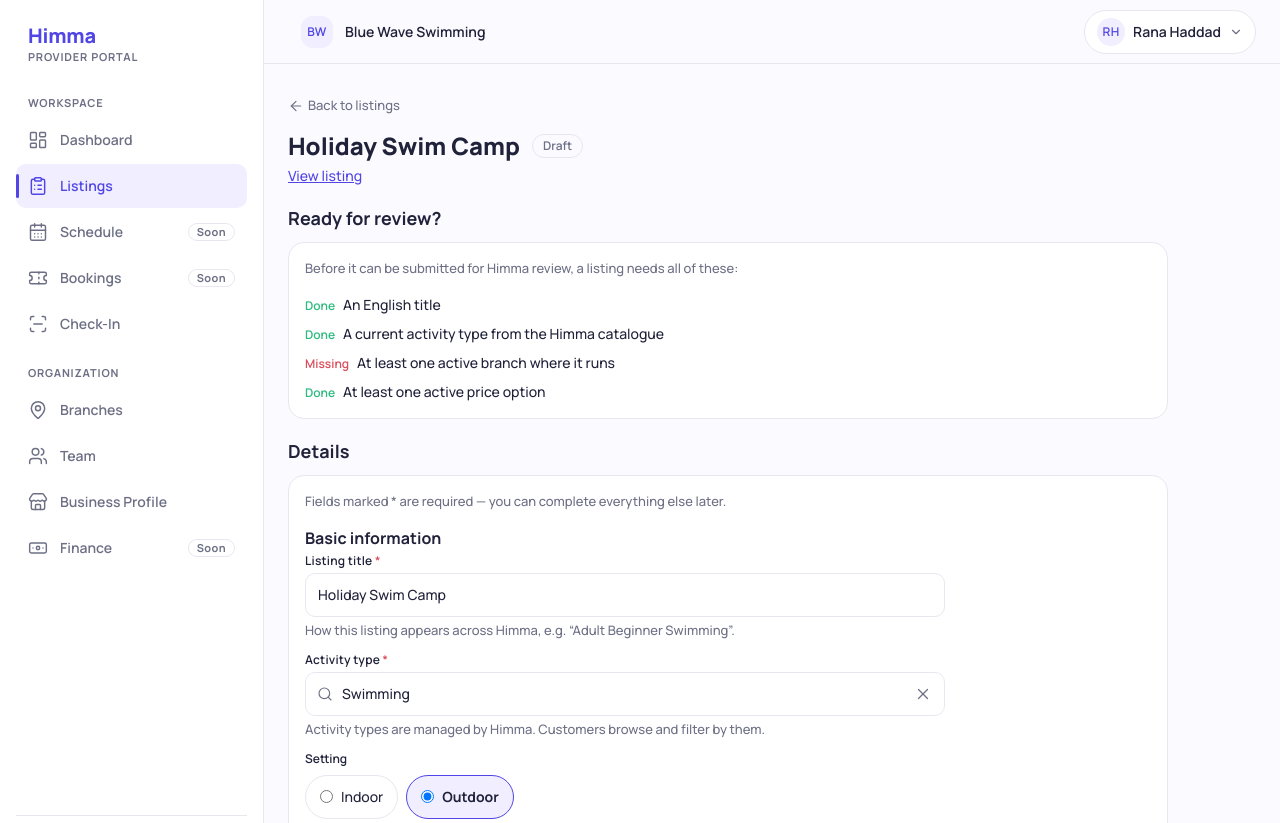
listing editor accessibility (jest-axe, W2-8) › stale-conflict surface
Check: the heading "Holiday Swim Camp" is shown, box [288, 130, 520, 160]
Step 1. Replace the text in the field labelled "Listing title *" with "Conflicted title" → point(625, 594), box [305, 572, 945, 616]
(page scrolled)
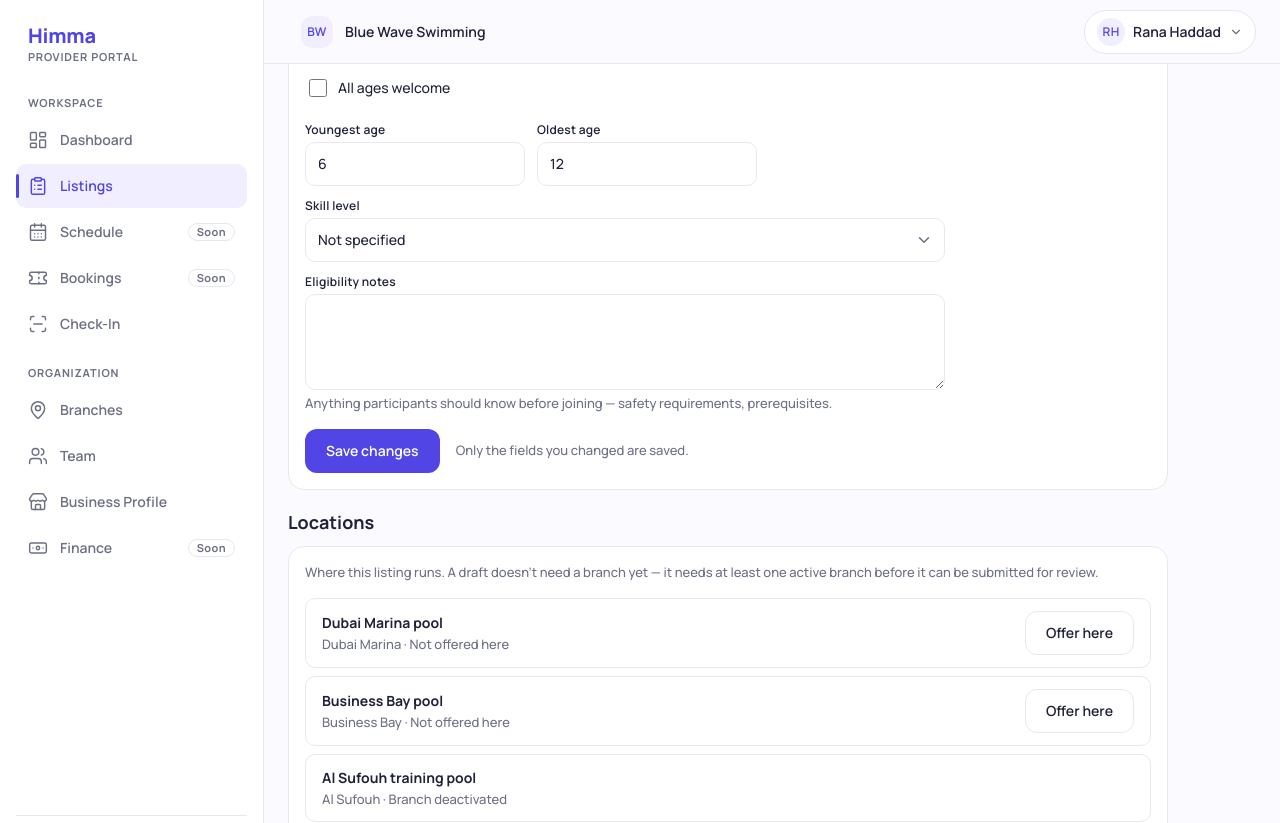
Step 2. Click the button "Save changes" → point(372, 450), box [305, 428, 440, 472]
(page scrolled)
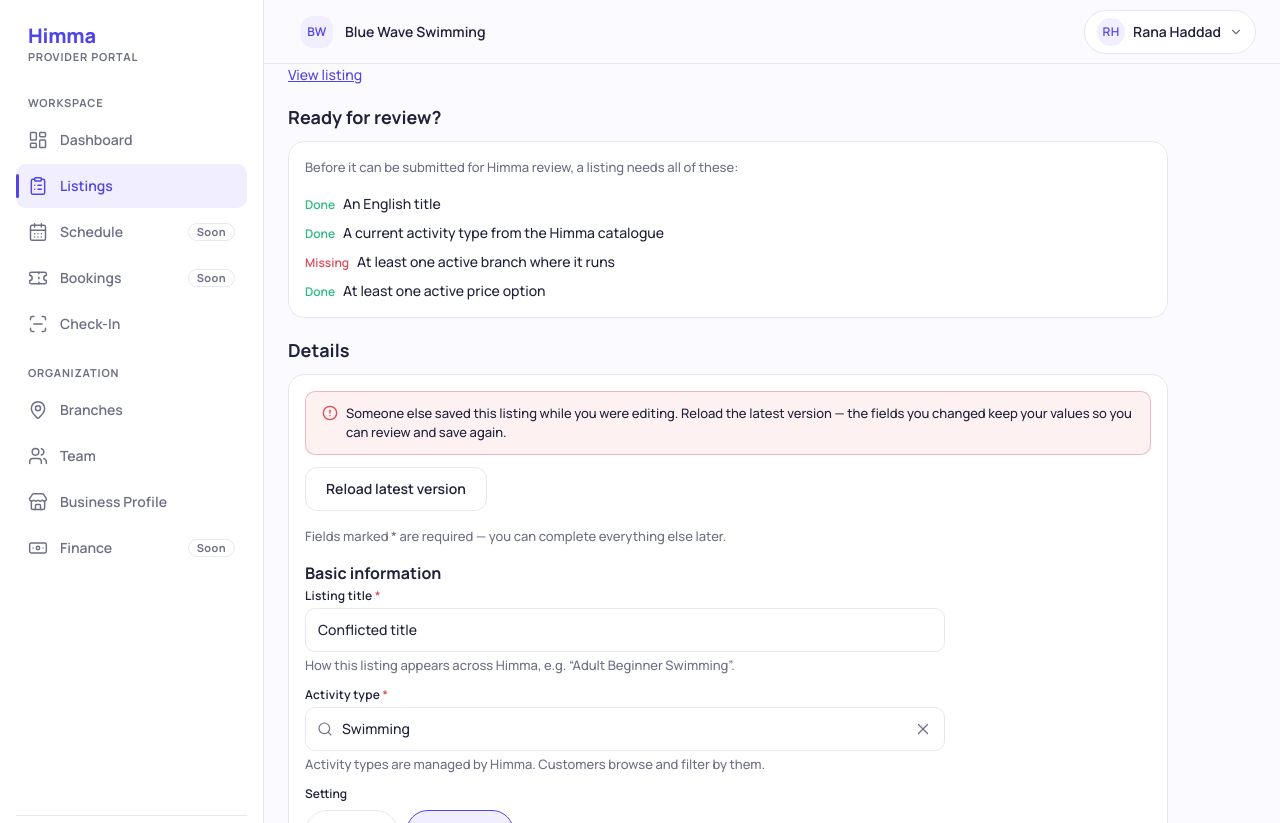
Check: the text "Someone else saved this listing while you were editing" is shown, box [346, 404, 1132, 440]
